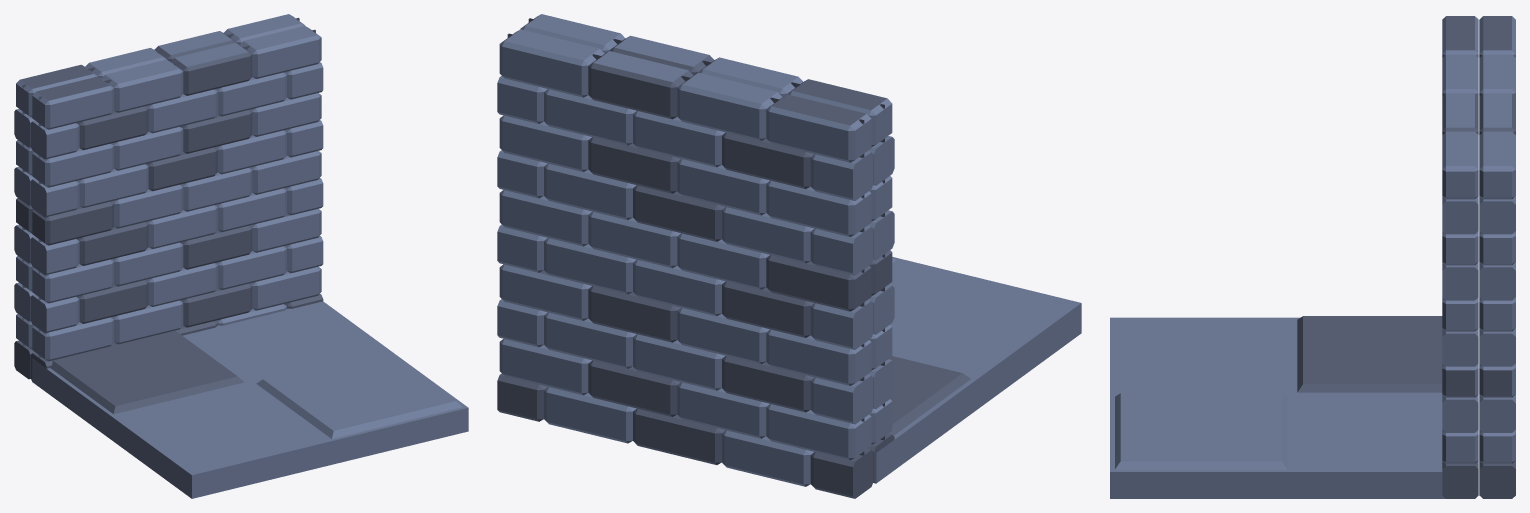
File: wall.fbx
The picture shows the model from 3 angles, left to right: view 1: azimuth 30°, elevation 25°; view 2: azimuth 150°, elevation 25°; view 3: azimuth 270°, elevation 25°; orthographic projection. The views are drawn at different scales.
Parts seen in each view (by area): view 1: brick wall.009; view 2: brick wall.009; view 3: brick wall.009.
Part boxes in pixels (<box>): brick wall.009: <box>14,14,468,498</box>; brick wall.009: <box>497,14,1081,498</box>; brick wall.009: <box>1110,16,1515,498</box>.
Bounding box in the file's own units: 100 × 111 × 100.
